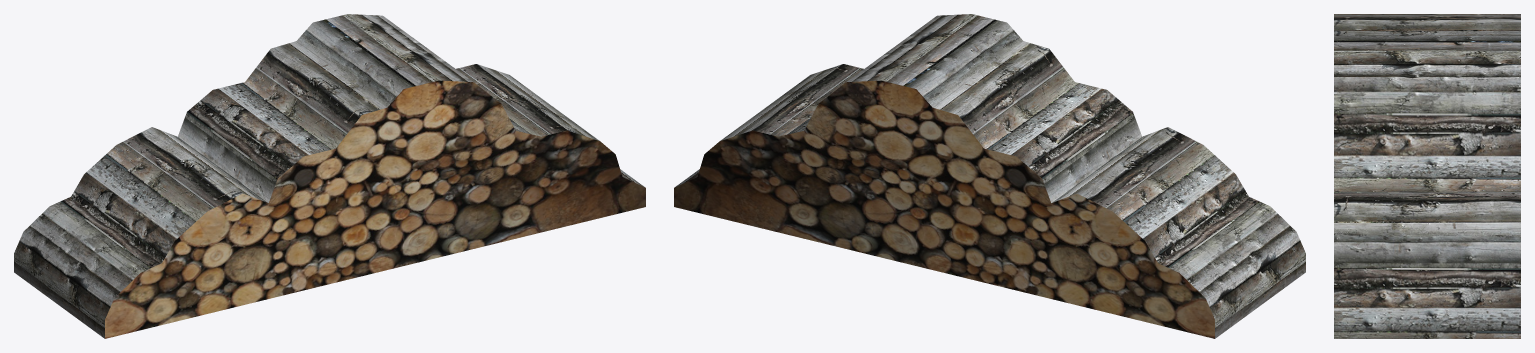
The model's file is woodpile.FBX.
3 views of the same model, side by side, from view 1: azimuth 30°, elevation 25°; view 2: azimuth 150°, elevation 25°; view 3: azimuth 270°, elevation 25° (orthographic). The views are drawn at different scales.
Parts seen in each view (by area): view 1: woodpile; view 2: woodpile; view 3: woodpile.
Part boxes in pixels (x1,y1,x2,y2): woodpile: (14,14,645,338); woodpile: (674,14,1305,338); woodpile: (1334,14,1520,338).
Bounding box in the file's own units: 43.56 × 13.62 × 12.68.
Materials: 1 (1 with a texture image).
